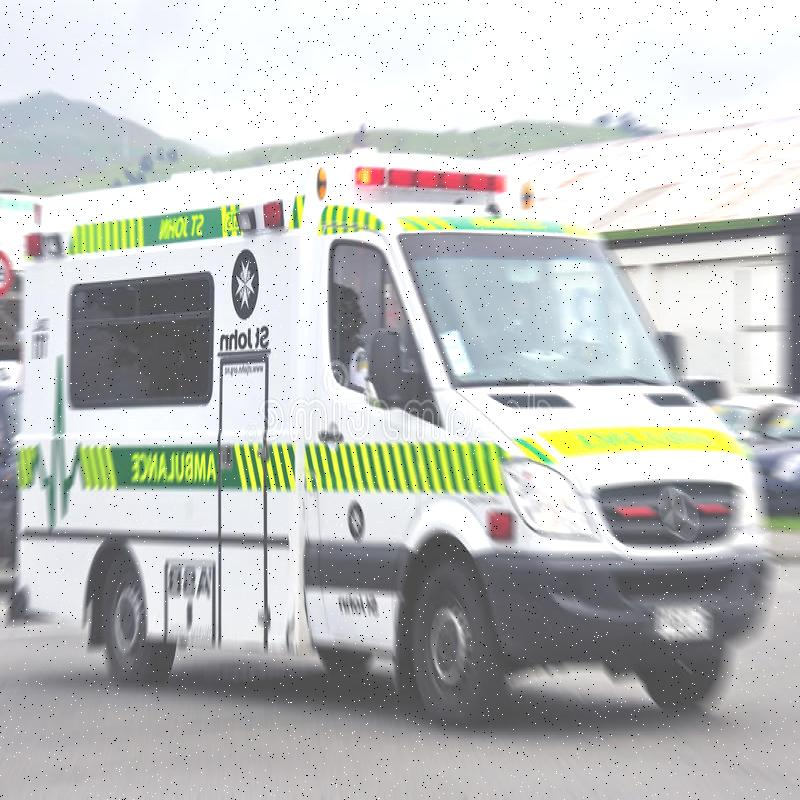AmbulanceSiren: (347, 160, 527, 210)
ambulance: (0, 138, 742, 752)
